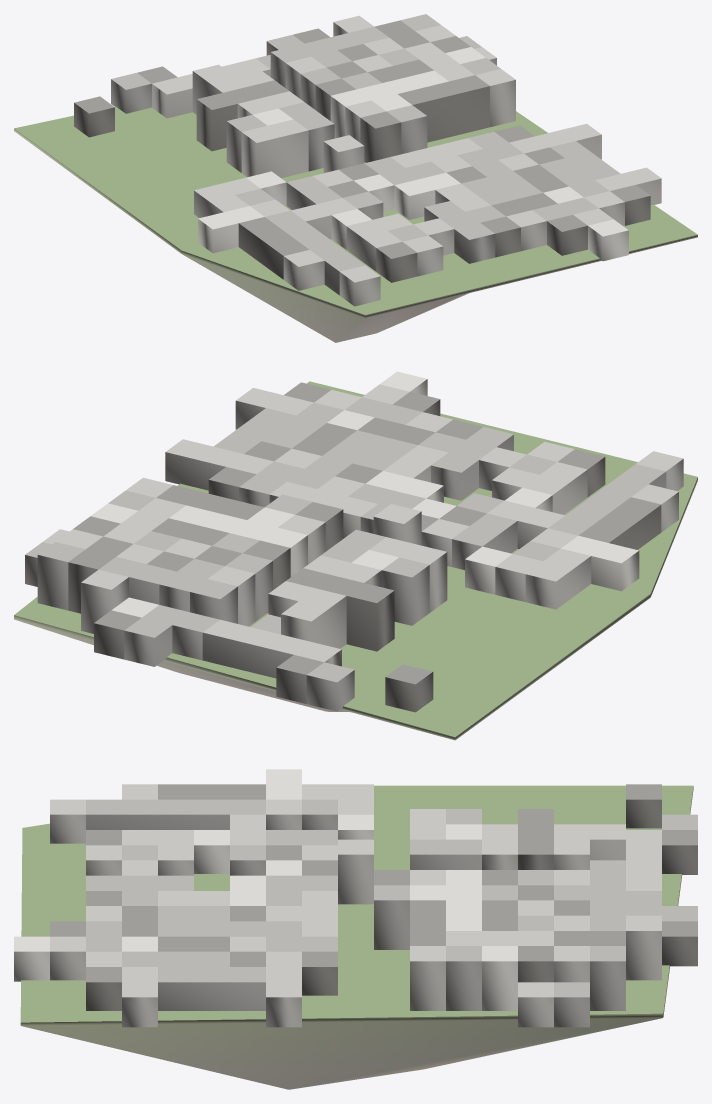
Rendered from SKY-070.lod2.glb.
3 views of the same model, one above another, from view 1: azimuth 30°, elevation 25°; view 2: azimuth 150°, elevation 25°; view 3: azimuth 270°, elevation 25° (orthographic). The views are drawn at different scales.
Parts seen in each view (by area): view 1: warren_hull, deck, rock; view 2: warren_hull, deck, rock; view 3: warren_hull, deck, rock.
Part boxes in pixels (x1=…): warren_hull: x1=74, y1=14, x2=661, y2=306; deck: x1=14, y1=106, x2=697, y2=314; rock: x1=14, y1=128, x2=697, y2=342; warren_hull: x1=25, y1=371, x2=683, y2=712; deck: x1=14, y1=381, x2=697, y2=736; rock: x1=14, y1=477, x2=697, y2=740; warren_hull: x1=14, y1=769, x2=697, y2=1027; deck: x1=20, y1=785, x2=693, y2=1022; rock: x1=20, y1=787, x2=693, y2=1089.
Size of the model in its own units: 237 by 94.21 by 285.
